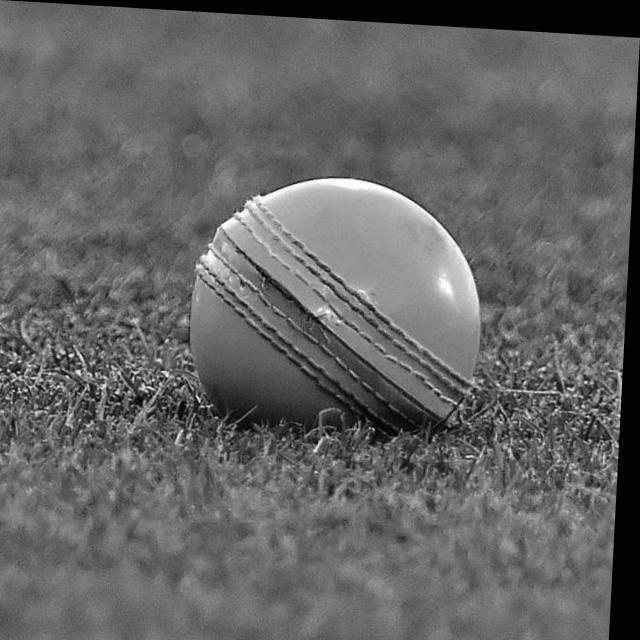cricket ball: (195, 172, 485, 432)
